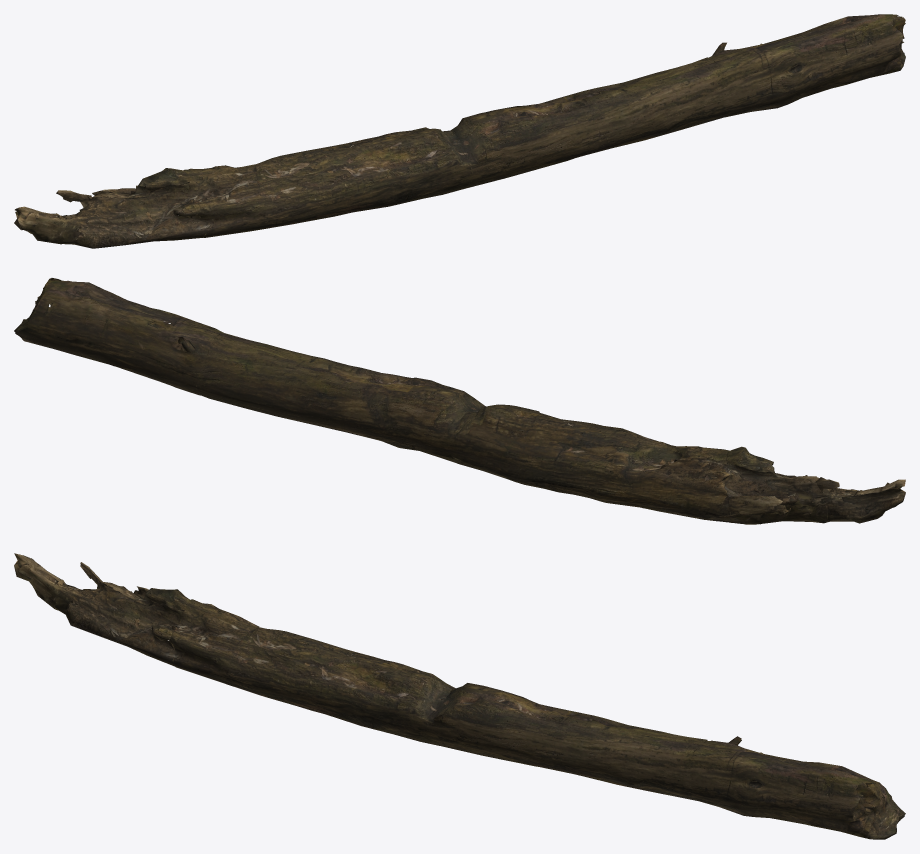
The model's file is dead_tree_trunk_lod0.gltf.
The picture shows the model from 3 angles, top to bottom: view 1: azimuth 30°, elevation 25°; view 2: azimuth 150°, elevation 25°; view 3: azimuth 330°, elevation 25°; orthographic projection.
Parts seen in each view (by area): view 1: dead_tree_trunk_lod0; view 2: dead_tree_trunk_lod0; view 3: dead_tree_trunk_lod0.
Part boxes in pixels (<box>): dead_tree_trunk_lod0: <box>14,14,905,248</box>; dead_tree_trunk_lod0: <box>14,278,905,524</box>; dead_tree_trunk_lod0: <box>14,553,905,839</box>.
Bounding box in the file's own units: 3.05 × 0.2898 × 0.275.
Materials: 1 (1 with a texture image).
